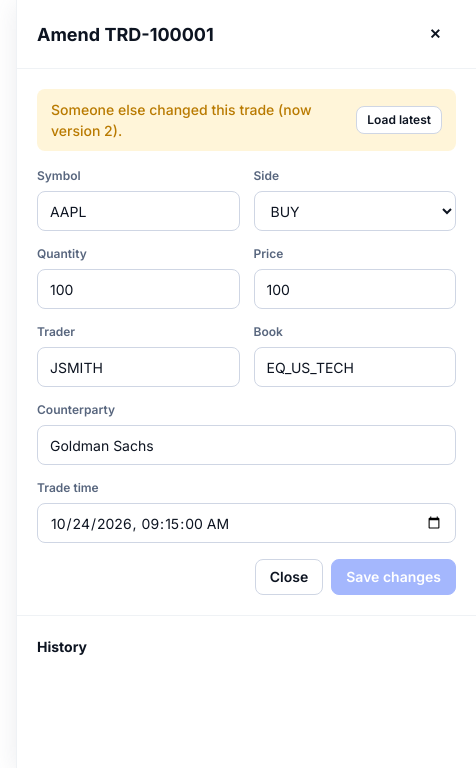
Test: TradeForm › offers to load the latest version when the trade changes while editing
The width and height of the screenshot is (476, 768).
Click the button "Load latest" at (399, 120), box x1=356 y1=106 x2=442 y2=134
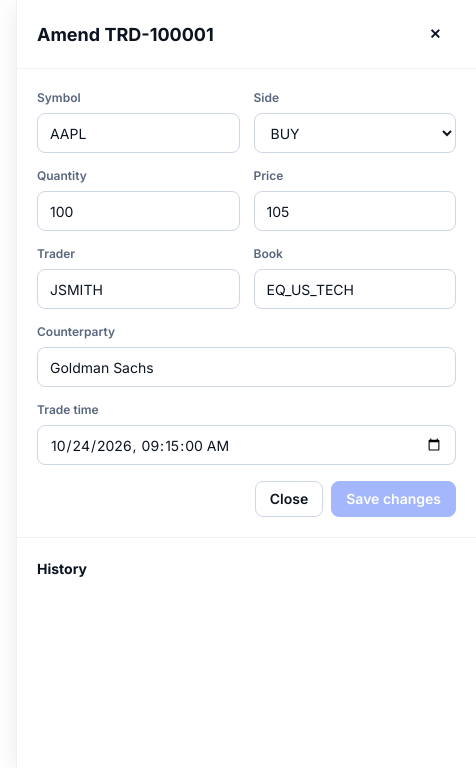
Check: the field labelled "Price" holds "105", box x1=254 y1=191 x2=456 y2=231
